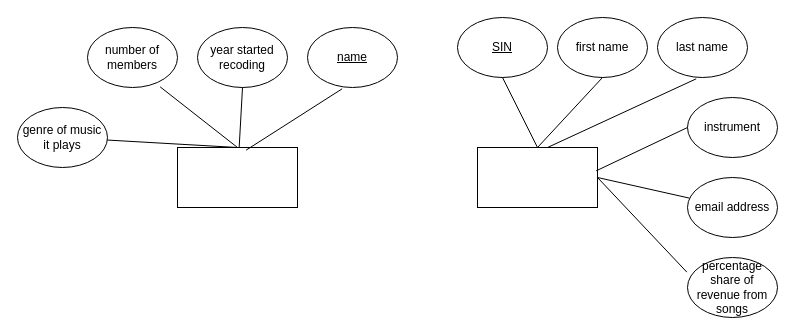
Some shapes in this 795 by 335 pixel diagram are drawn without their labels. Here are the shapes that lost their labels. From the top down, the centre of each, then its label:
point 237,177: artist
point 537,177: musician
